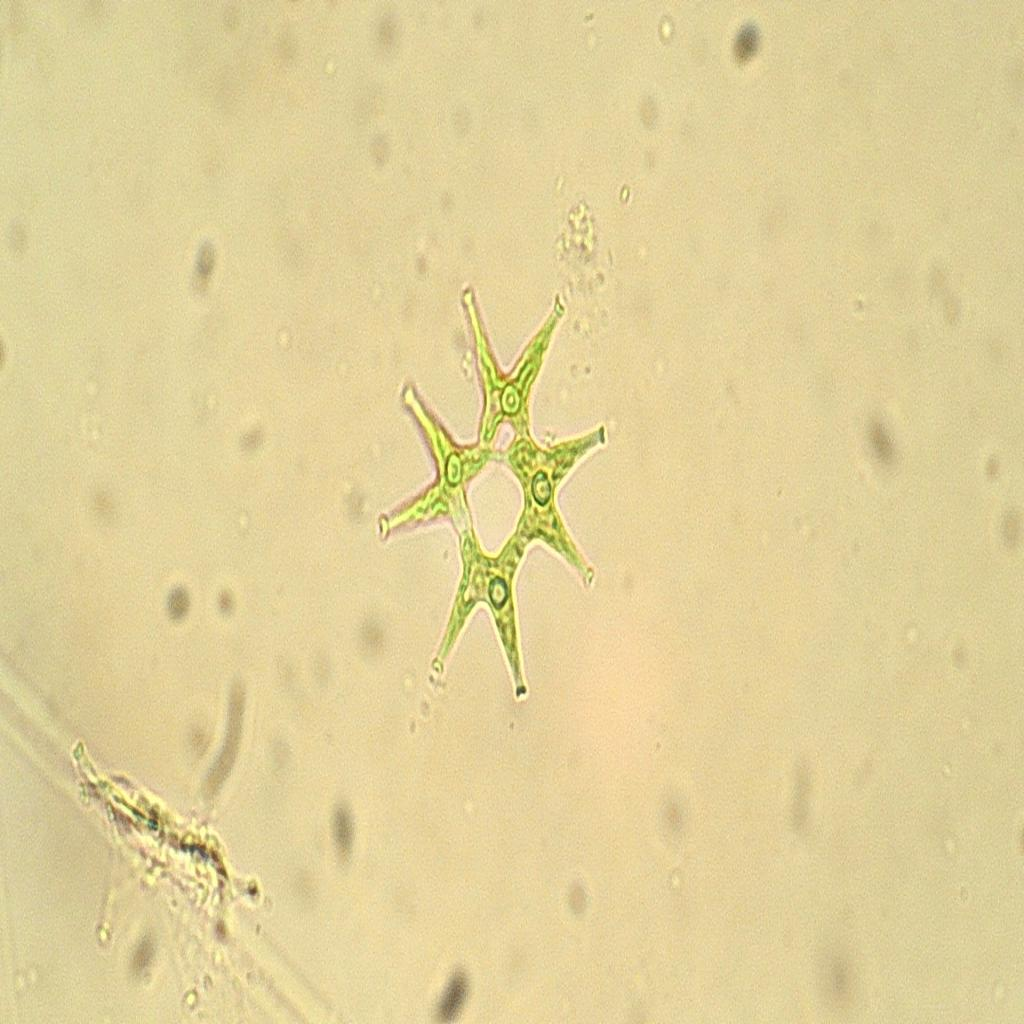Pediastrum_75FO: (371, 266, 619, 726)
